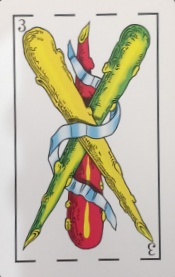3b: (11, 11, 161, 34)
